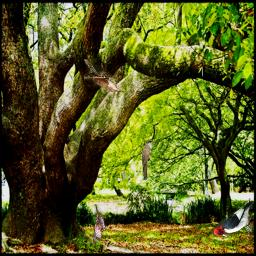Cuckoo: (84, 59, 124, 92), (142, 140, 155, 180)
Sparrow: (93, 204, 106, 244)
Woodpecker: (213, 198, 252, 238)
